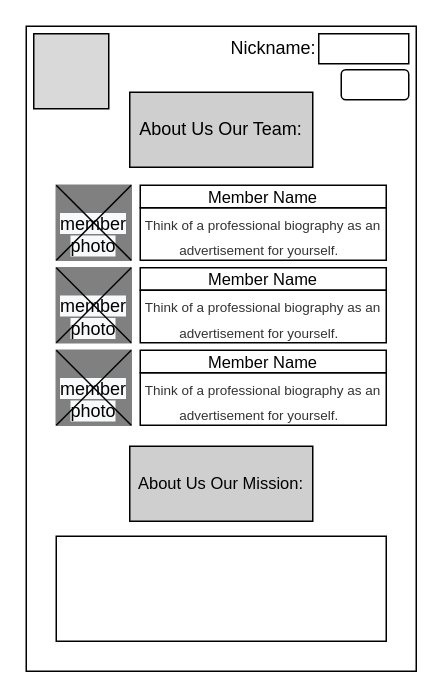
Some shapes in this 443 by 698 pixel diagram are drawn without their labels. The shapes that lost their labels are listed below. From the top down, each one's box as (x1, y1, x2, y2) in pixels, then its label:
(32, 32, 109, 109): LOGO/ HOME
(340, 68, 409, 100): confirm
(55, 535, 386, 641): MISSION STATEMENT
